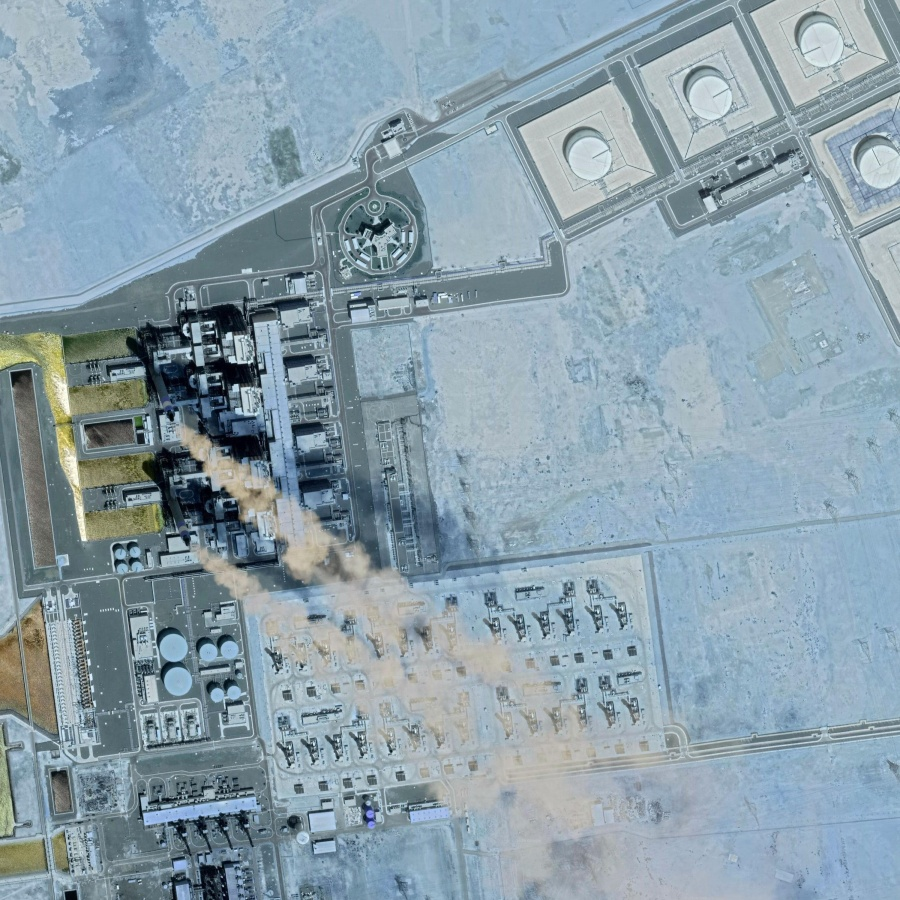PowerPlant: (47, 290, 490, 698)
